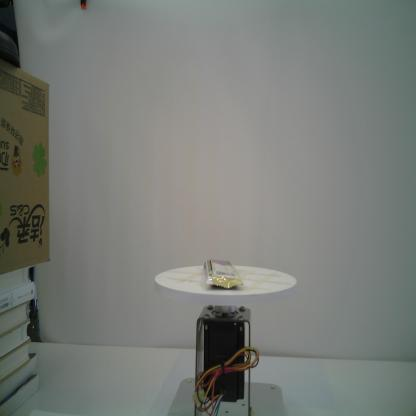Chocolate: (203, 259, 245, 290)
